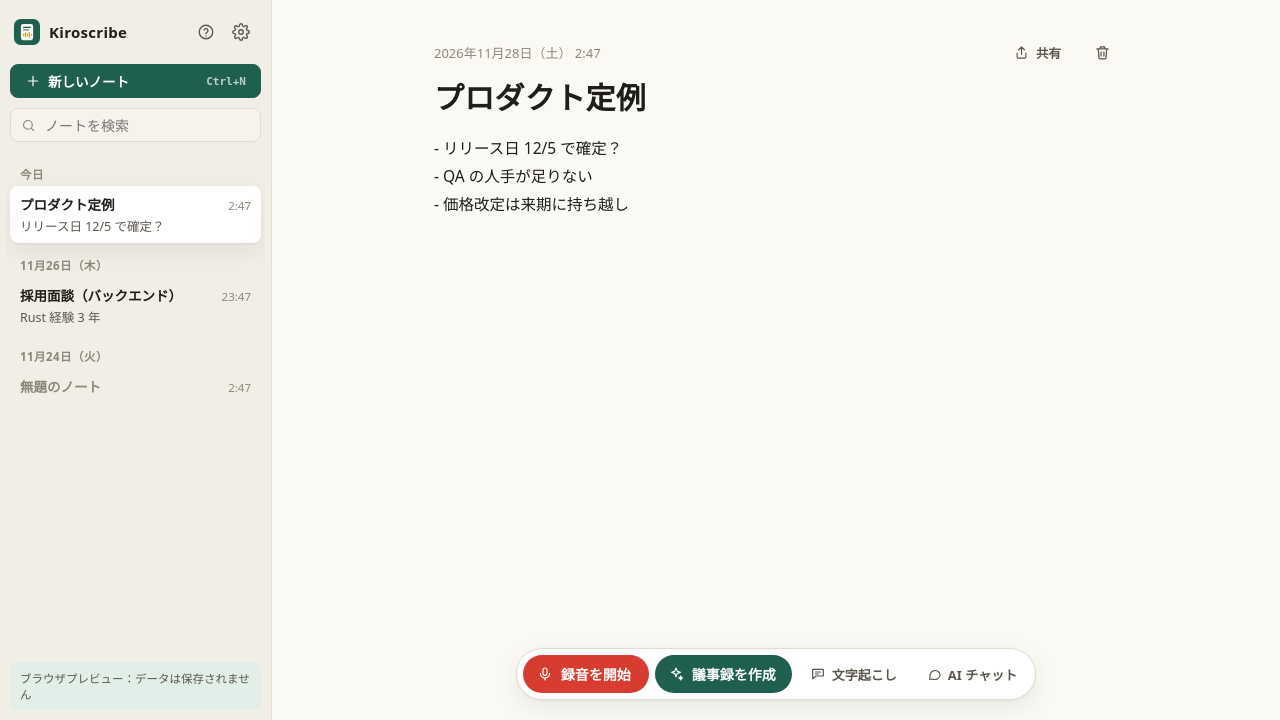
Test case: AI チャット › [CHT-001][CHT-002][CHT-003][CHT-011][CHT-012] 提案から質問でき、履歴が残り、消去できる
Check: the field showing "プロダクト定例" is shown, box [434,74,1118,121]
Click the button "AI チャット". click: [972, 674]
box: [915,656,1029,692]
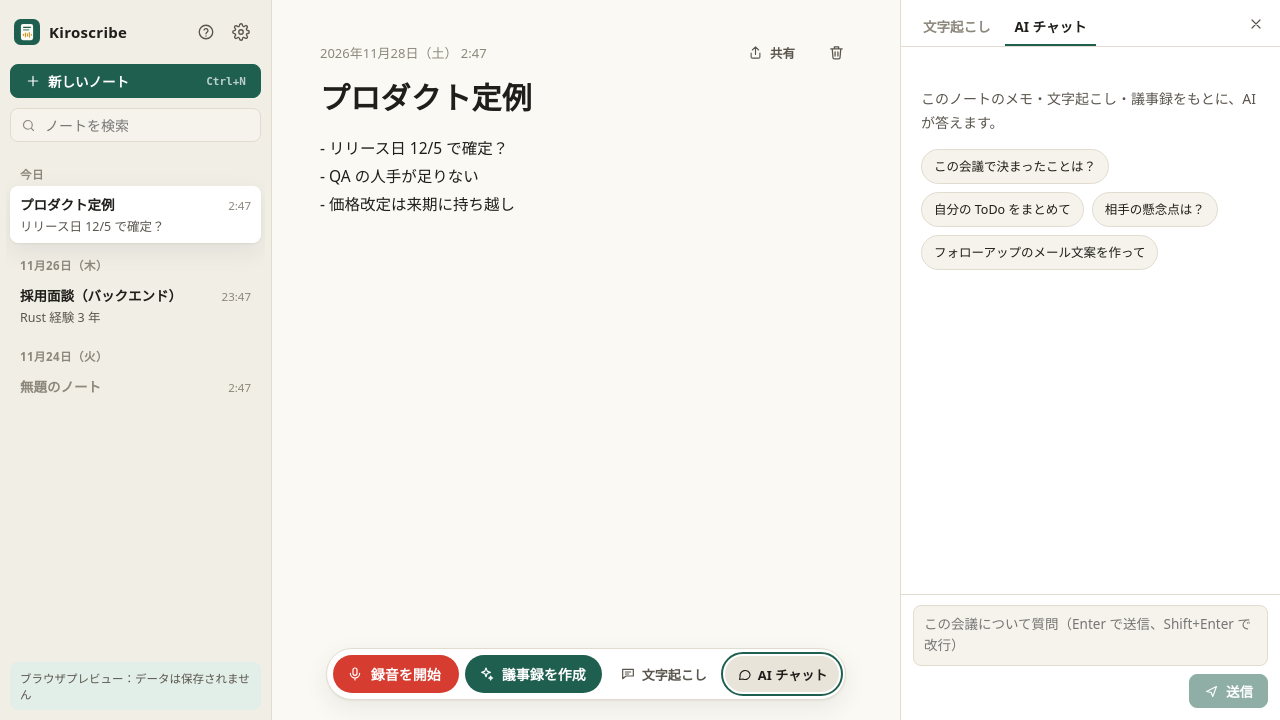
Click the button "この会議で決まったことは？". click: [1015, 166]
box: [921,149,1109,184]
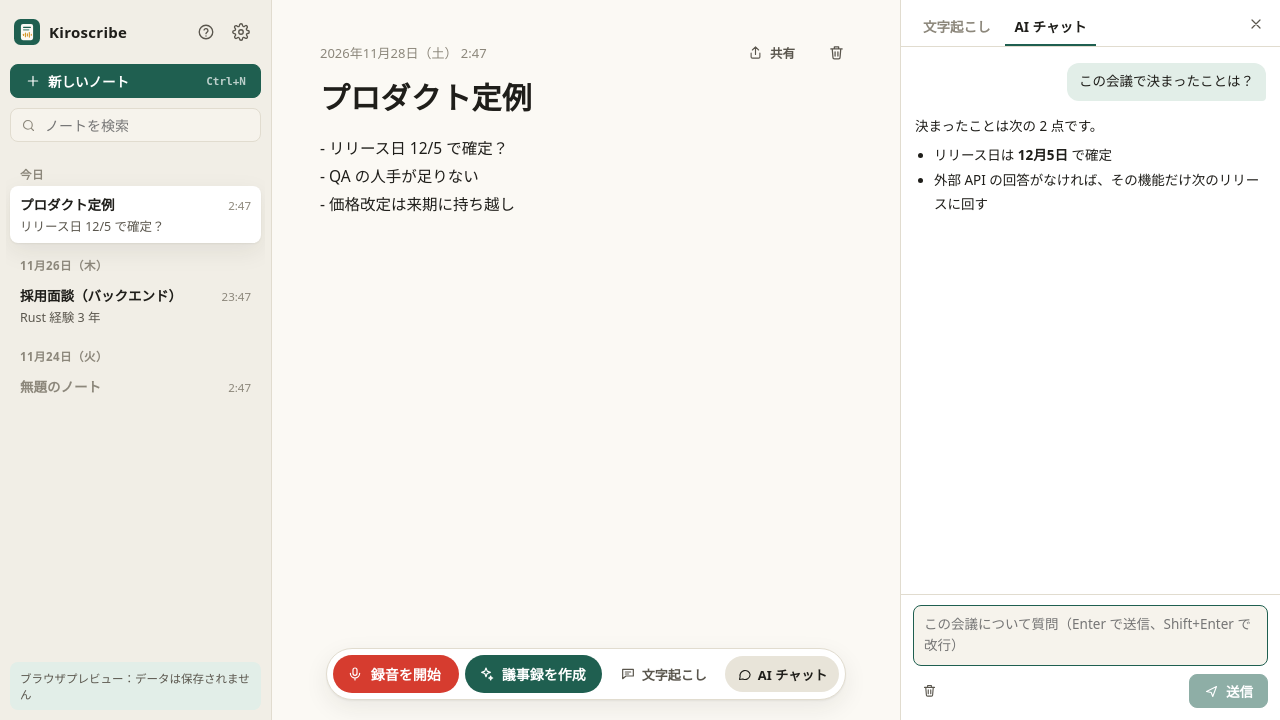
Check: the list item "リリース日は 12月5日 で確定" is shown, box [934,146,1112,164]
# 入力欄から Enter で送る
Type "自分の ToDo は？" into the text box named "AI への質問". click: [1090, 635]
box: [913,605,1268,666]
Then press Enter
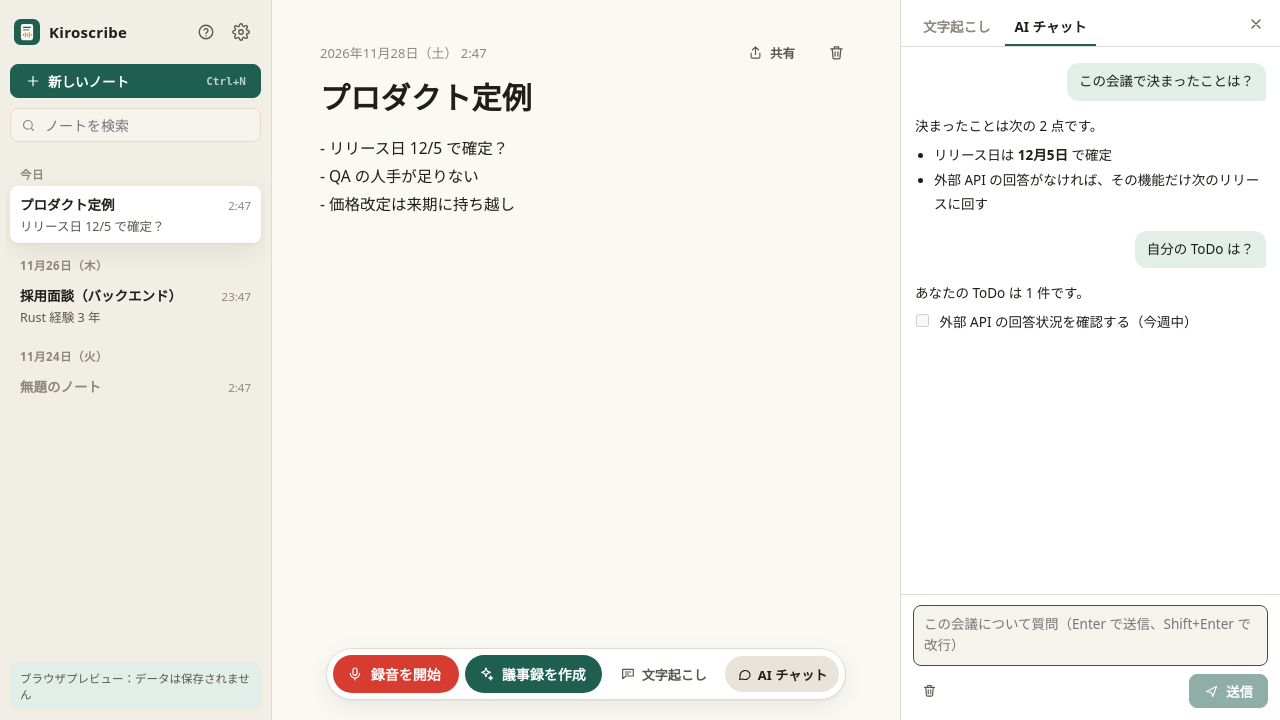
Check: the text box named "AI への質問" is empty, box [913,605,1268,666]
Check: the text "あなたの ToDo は 1 件です。" is shown, box [915,284,1090,302]
Click the button named "チャットの履歴を消去". click: [929, 690]
box: [913,674,945,706]
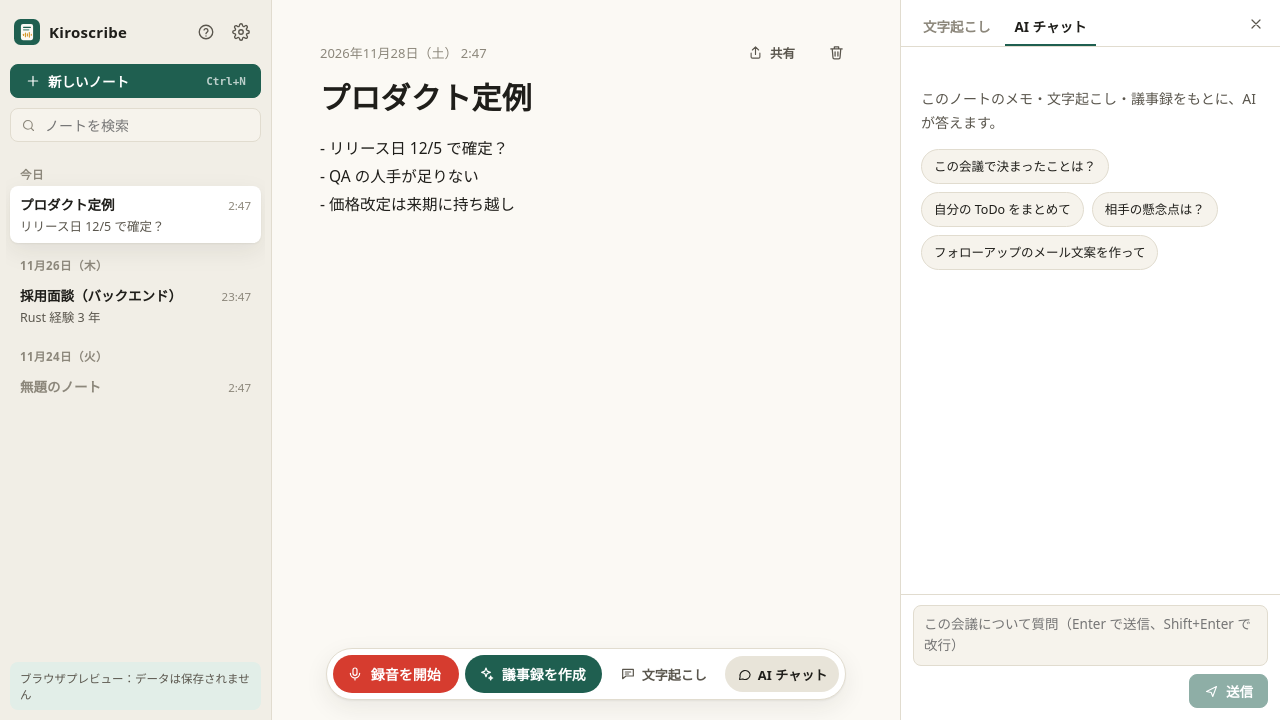
Check: the button "相手の懸念点は？" is shown, box [1092,192,1218,227]
